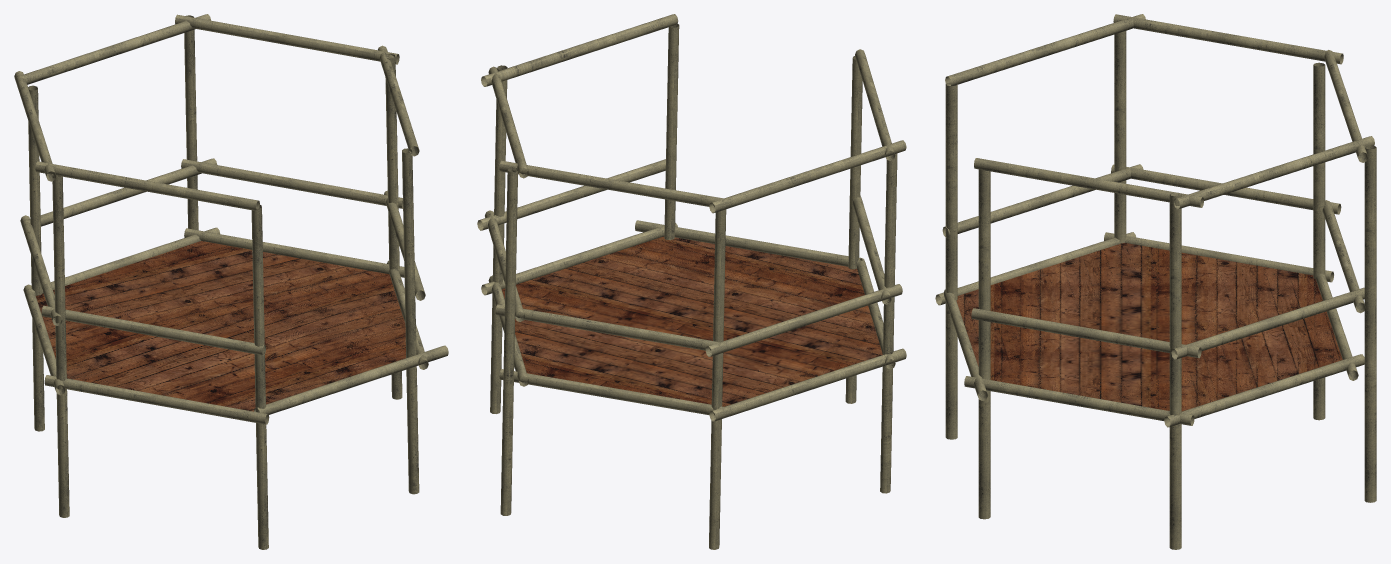
The model's file is CocoCamp.fbx.
The picture shows the model from 3 angles, left to right: view 1: azimuth 30°, elevation 25°; view 2: azimuth 150°, elevation 25°; view 3: azimuth 270°, elevation 25°; orthographic projection. The views are drawn at different scales.
Parts seen in each view (by area): view 1: Group1; view 2: Group1; view 3: Group1.
Part boxes in pixels (x1,y1,x2,y2): Group1: [14, 14, 448, 549]; Group1: [477, 14, 906, 549]; Group1: [935, 14, 1376, 549].
Bounding box in the file's own units: 293 × 257 × 282.
